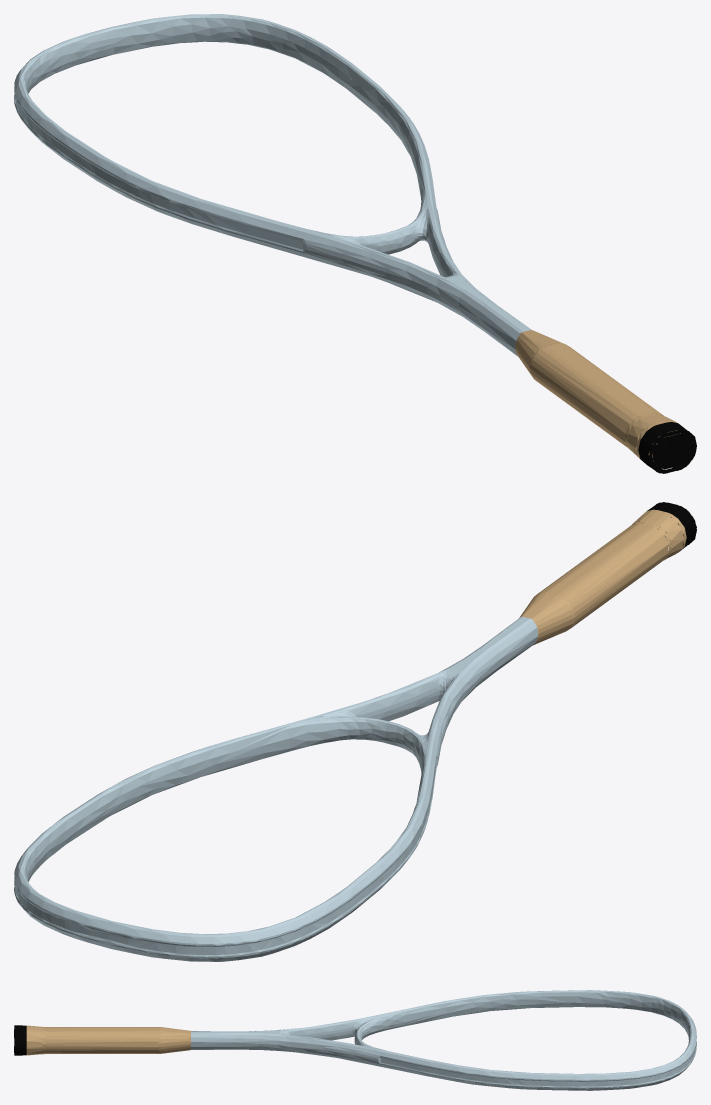
File: racket.fbx
3 views of the same model, one above another, from view 1: azimuth 30°, elevation 25°; view 2: azimuth 150°, elevation 25°; view 3: azimuth 270°, elevation 25° (orthographic). The views are drawn at different scales.
Parts seen in each view (by area): view 1: frame, grip, gripend; view 2: frame, grip; view 3: frame, grip.
Boxes of the visible parts, x1,y1,x2,y2 form: frame: (14, 14, 531, 356); grip: (515, 330, 696, 473); gripend: (648, 429, 696, 473); frame: (14, 616, 538, 961); grip: (519, 502, 696, 645); frame: (191, 990, 696, 1090); grip: (14, 1025, 190, 1055).
Bounding box in the file's own units: 209 × 27.7 × 688.
